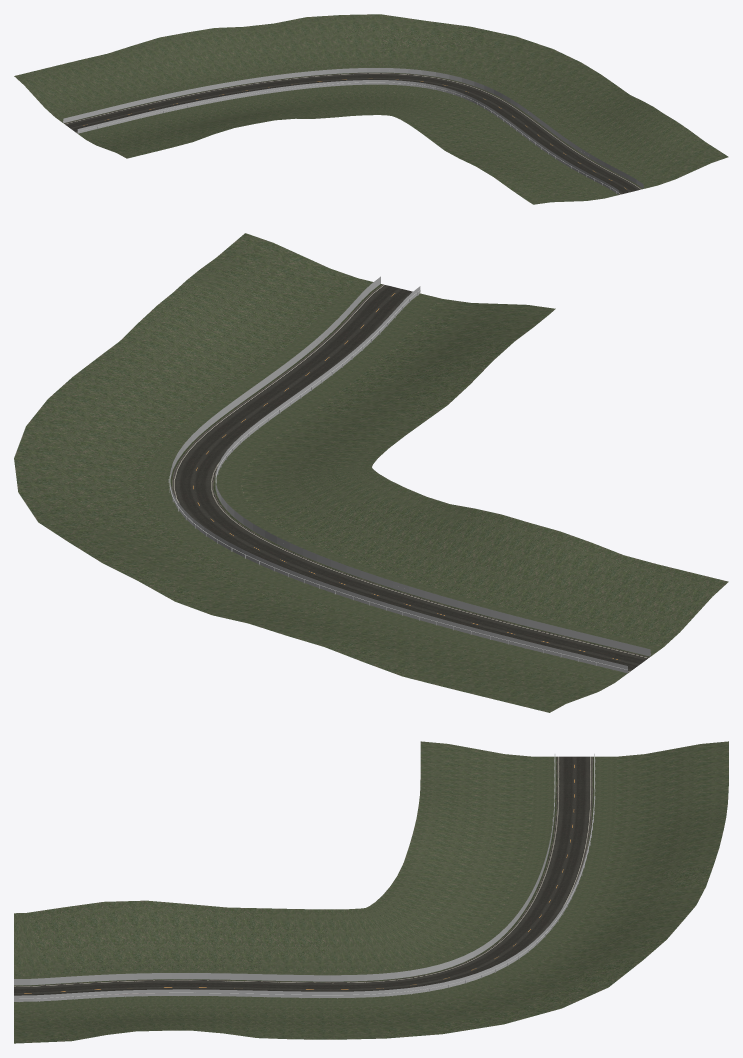
3 renders of one model, top to bottom at view 1: azimuth 30°, elevation 25°; view 2: azimuth 150°, elevation 25°; view 3: azimuth 270°, elevation 25°, orthographic. The views are drawn at different scales.
Parts seen in each view (by area): view 1: Grass, HighWay, GuardRail-Colliser, GuardRail; view 2: Grass, HighWay, GuardRail-Colliser, GuardRail; view 3: Grass, HighWay, GuardRail-Colliser, GuardRail.
Boxes of the visible parts, <box> form: Grass: <box>14,14,728,204</box>; HighWay: <box>64,72,642,194</box>; GuardRail-Colliser: <box>63,68,643,194</box>; GuardRail: <box>63,70,643,193</box>; Grass: <box>14,233,728,712</box>; HighWay: <box>171,284,649,672</box>; GuardRail-Colliser: <box>170,276,650,673</box>; GuardRail: <box>168,280,650,671</box>; Grass: <box>14,741,728,1043</box>; HighWay: <box>14,756,593,995</box>; GuardRail-Colliser: <box>14,792,594,1001</box>; GuardRail: <box>14,753,595,1001</box>.
Size of what is drawn, in the model's own units: 255 by 10.09 by 255.
